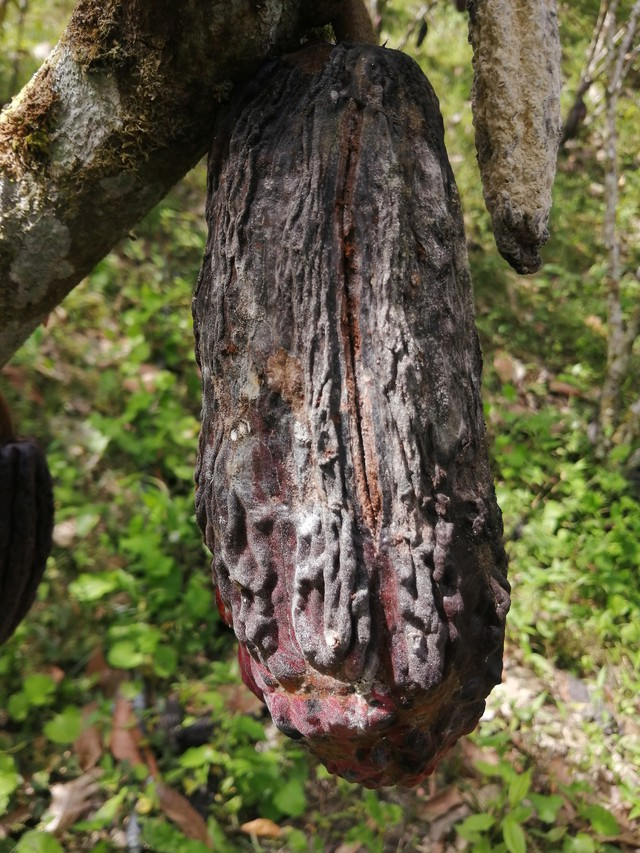moniliophthora roreri: (161, 32, 534, 804)
